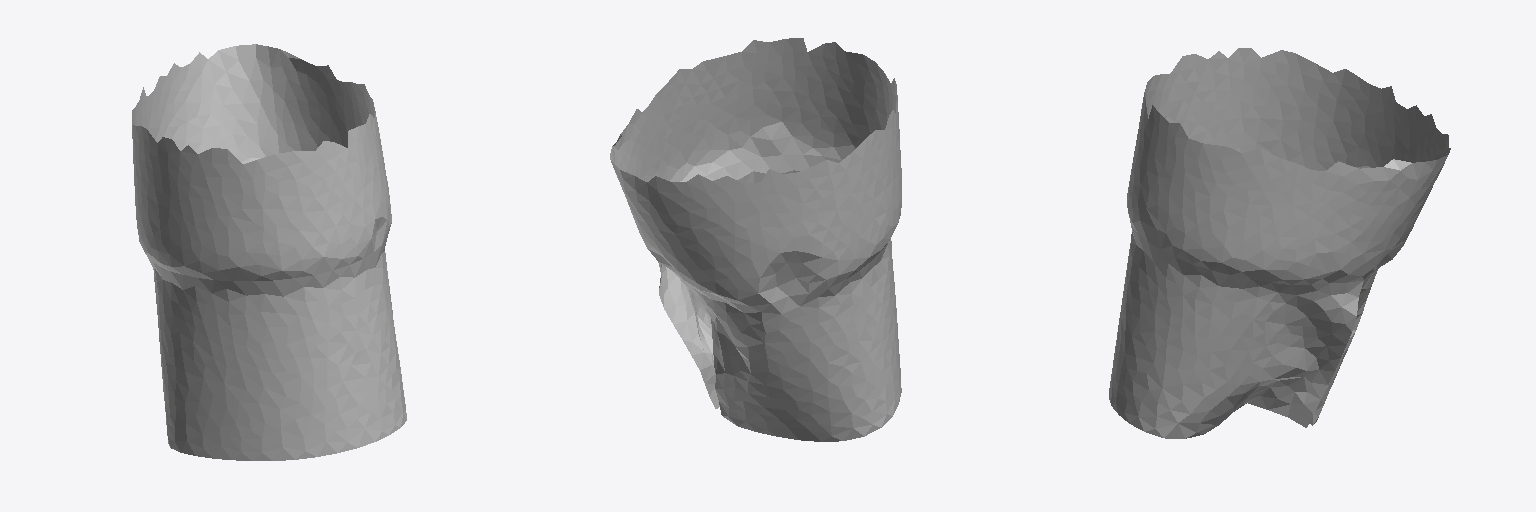
Rendered from cuff.obj.
3 views of the same model, side by side, from view 1: azimuth 30°, elevation 25°; view 2: azimuth 150°, elevation 25°; view 3: azimuth 270°, elevation 25° (orthographic).
Parts seen in each view (by area): view 1: AM_102_037_003.305_Untitled.307; view 2: AM_102_037_003.305_Untitled.307; view 3: AM_102_037_003.305_Untitled.307.
Boxes of the visible parts, x1,y1,x2,y2 form: AM_102_037_003.305_Untitled.307: [132, 44, 406, 460]; AM_102_037_003.305_Untitled.307: [610, 38, 901, 441]; AM_102_037_003.305_Untitled.307: [1109, 48, 1450, 438].
Size of the model in its own units: 0.0904 by 0.1312 by 0.1237.